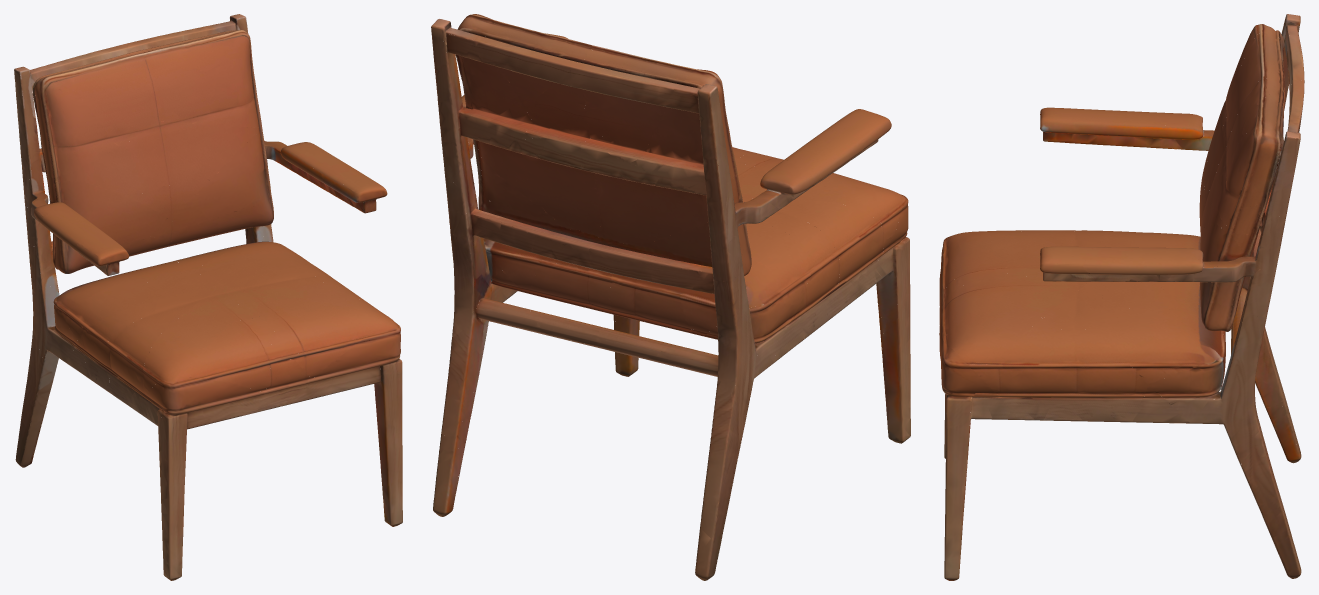
Rendered from comfy2.glb.
The picture shows the model from 3 angles, left to right: view 1: azimuth 30°, elevation 25°; view 2: azimuth 150°, elevation 25°; view 3: azimuth 270°, elevation 25°; orthographic projection. The views are drawn at different scales.
Visible parts, largest first — view 1: tripo_node_27478bbf-2ec1-4d29-a62e-01a620ddeed6; view 2: tripo_node_27478bbf-2ec1-4d29-a62e-01a620ddeed6; view 3: tripo_node_27478bbf-2ec1-4d29-a62e-01a620ddeed6.
Boxes of the visible parts, x1,y1,x2,y2 form: tripo_node_27478bbf-2ec1-4d29-a62e-01a620ddeed6: [14, 14, 402, 580]; tripo_node_27478bbf-2ec1-4d29-a62e-01a620ddeed6: [431, 14, 910, 580]; tripo_node_27478bbf-2ec1-4d29-a62e-01a620ddeed6: [939, 14, 1304, 580].
Bounding box in the file's own units: 0.7586 × 1 × 0.7425.
1 material, 1 textured.
